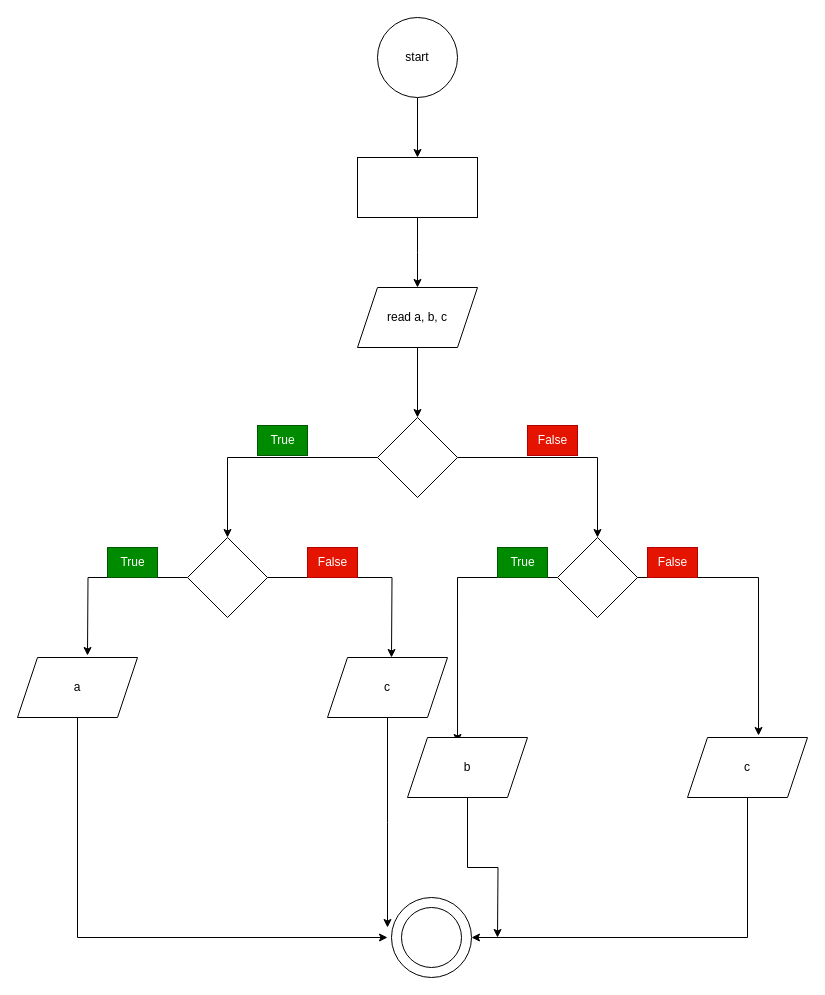
Some shapes in this 825 by 995 pixel diagram are drawn without their labels. The box of each missing label's shape, as (x1, y1, x2, y2) in pixels:
a > b: (376, 416, 458, 498)
a > c: (186, 536, 268, 618)
b > c: (556, 536, 638, 618)
Declare a, b, c: (356, 156, 478, 218)
end: (400, 906, 462, 968)
